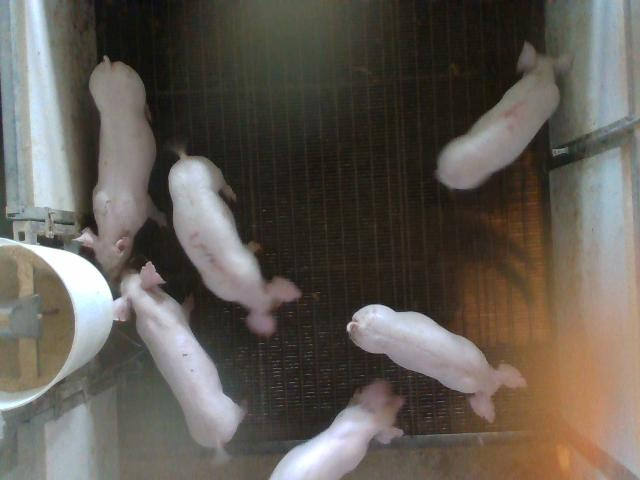pig-3: (169, 150, 301, 336)
pig-4: (438, 42, 570, 189)
